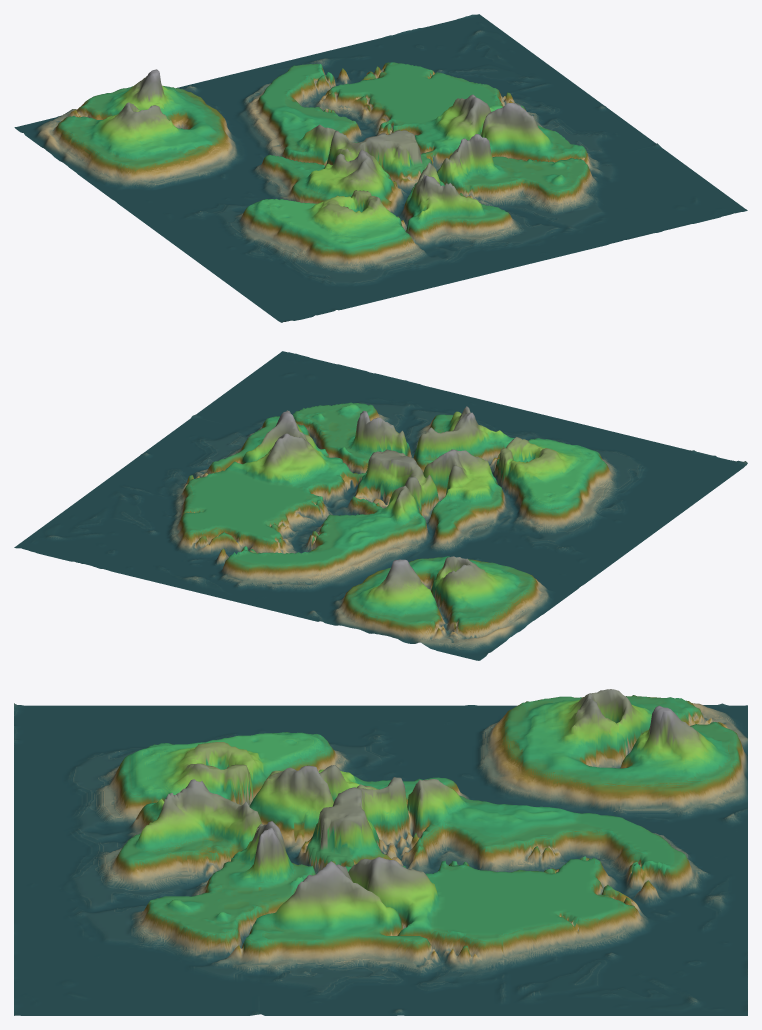
File: IslandSmooth.glb
3 views of the same model, one above another, from view 1: azimuth 30°, elevation 25°; view 2: azimuth 150°, elevation 25°; view 3: azimuth 270°, elevation 25° (orthographic). The views are drawn at different scales.
Visible parts, largest first — view 1: Islands_bump_map.1; view 2: Islands_bump_map.1; view 3: Islands_bump_map.1.
Part boxes in pixels (left/top/right/bottom): Islands_bump_map.1: left=14, top=14, right=747, bottom=322; Islands_bump_map.1: left=14, top=351, right=747, bottom=660; Islands_bump_map.1: left=14, top=689, right=747, bottom=1015.
Size of the model in its own units: 2 by 0.2166 by 2.
1 material, 1 textured.
